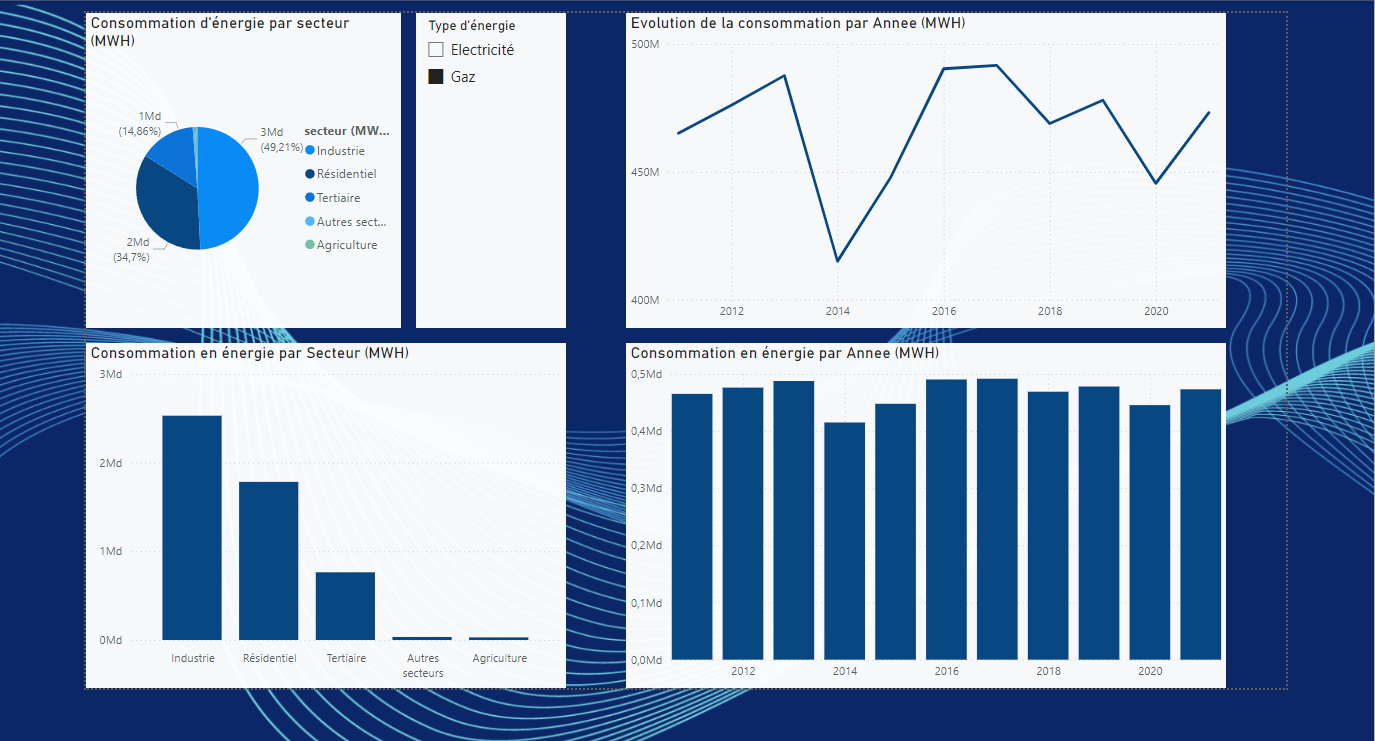

The page's visual inventory and layout, read from the dashboard file:
{"tool":"powerbi","page":{"name":"Page 1","canvas":[1280,720],"ordinal":0},"visuals":[{"type":"pieChart","fields":{"Category":["Raw data.libelle_grand_secteur"],"Y":["Sum(Raw data.conso)"]},"box":[0,0,336,336],"z":0},{"type":"columnChart","fields":{"Y":["Sum(Raw data.conso)"],"Category":["Raw data.libelle_grand_secteur"]},"box":[0,352,512,368],"z":1},{"type":"lineChart","fields":{"Y":["Sum(Raw data.conso)"],"Category":["Raw data.annee"]},"box":[576,0,640,336],"z":2},{"type":"slicer","fields":{"Values":["Raw data.filiere"]},"box":[352,0,160,336],"z":3},{"type":"columnChart","fields":{"Category":["Raw data.annee"],"Y":["Sum(Raw data.conso)"]},"box":[576,352,640,368],"z":4}]}

Visuals, with their boxes on the page's 1280x720 design canvas (x1, y1, x2, y2). These are canvas units, not pixel positions in the 1375x741 screenshot, which may show the page scaled, cropped or inside an application window:
pieChart - Raw data.libelle_grand_secteur x Sum(Raw data.conso): (0, 0, 336, 336)
columnChart - Sum(Raw data.conso) x Raw data.libelle_grand_secteur: (0, 352, 512, 720)
lineChart - Sum(Raw data.conso) x Raw data.annee: (576, 0, 1216, 336)
slicer - Raw data.filiere: (352, 0, 512, 336)
columnChart - Raw data.annee x Sum(Raw data.conso): (576, 352, 1216, 720)
